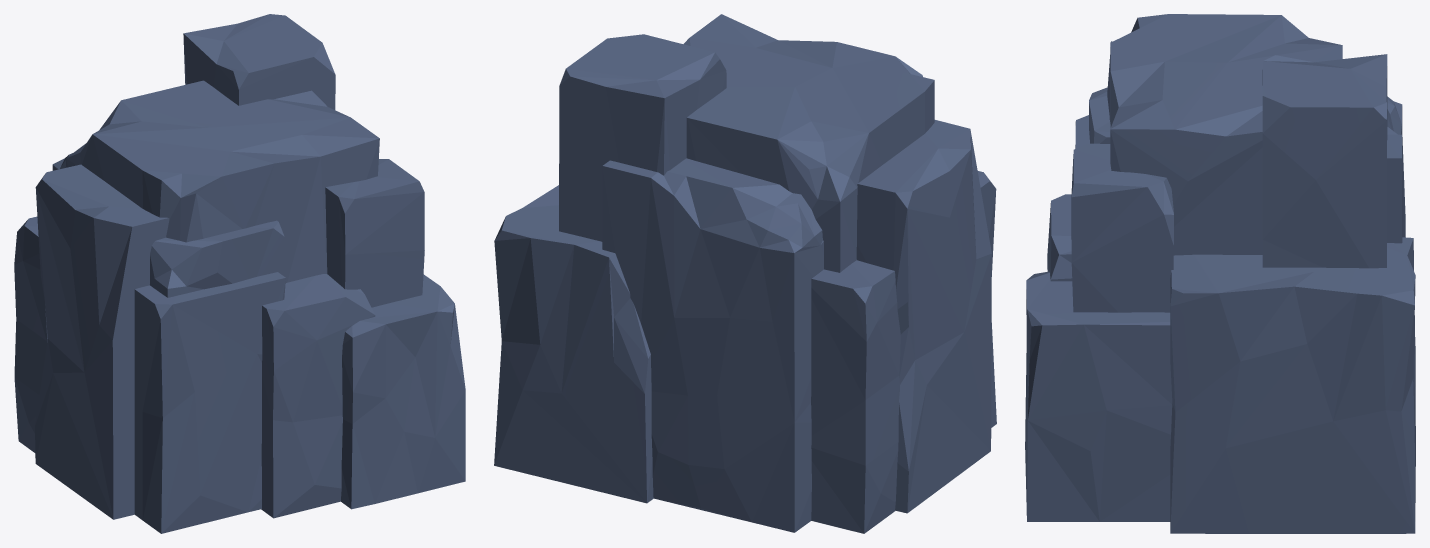
Rendered from BigRock01.fbx.
3 views of the same model, side by side, from view 1: azimuth 30°, elevation 25°; view 2: azimuth 150°, elevation 25°; view 3: azimuth 270°, elevation 25° (orthographic). The views are drawn at different scales.
Parts seen in each view (by area): view 1: BigRock_01; view 2: BigRock_01; view 3: BigRock_01.
Boxes of the visible parts, x1,y1,x2,y2 form: BigRock_01: (14,14,465,533); BigRock_01: (494,14,996,533); BigRock_01: (1025,14,1415,533).
Size of the model in its own units: 467 by 482 by 425.
